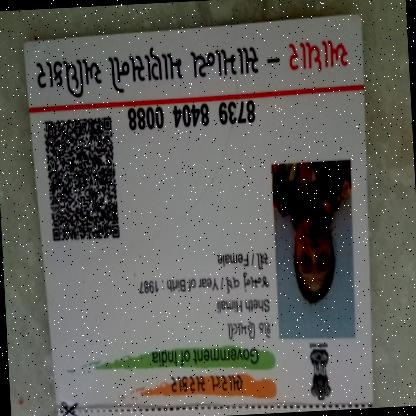aadhaar_card: (23, 21, 375, 415)
